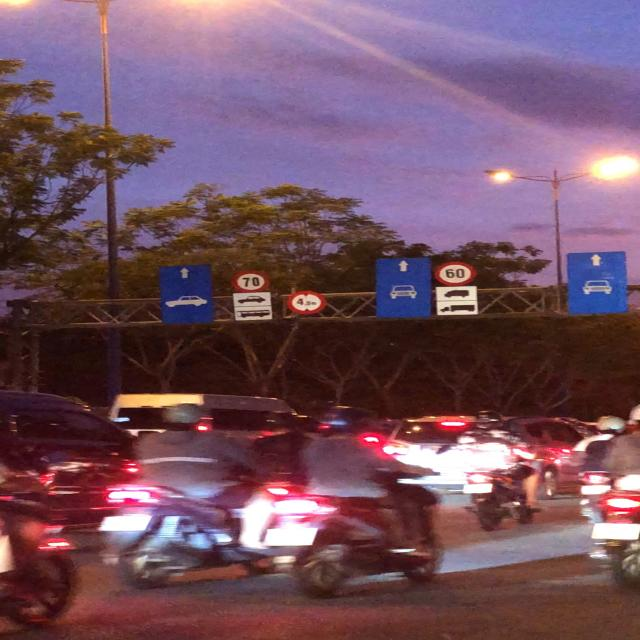Bien bao han che chieu cao: (288, 288, 333, 318)
Bien bao toc do toi da cho phep: (428, 258, 479, 288), (224, 268, 272, 294)
